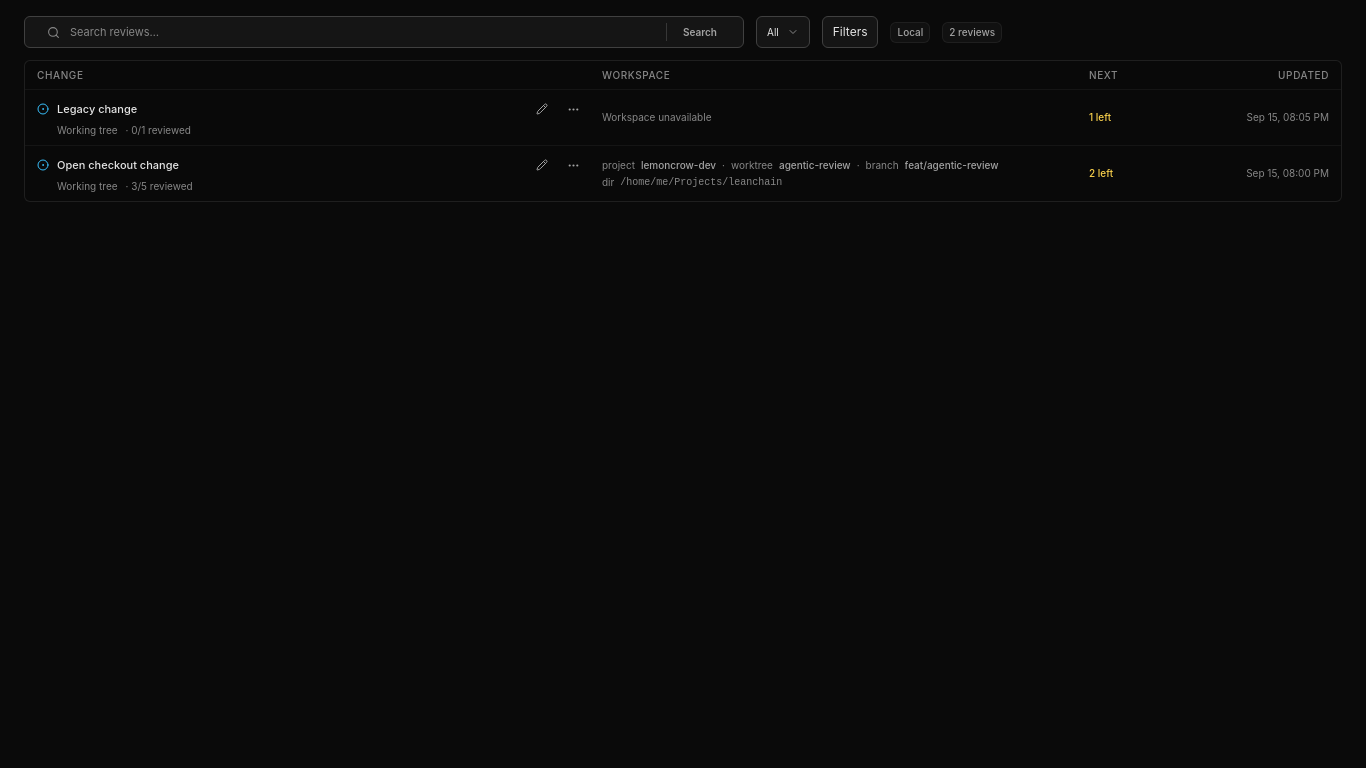
Test case: ReviewDirectory › shows a refused saved filter without losing the list
Click the heading "Filters" at (850, 32), box 822,16 -> 878,48
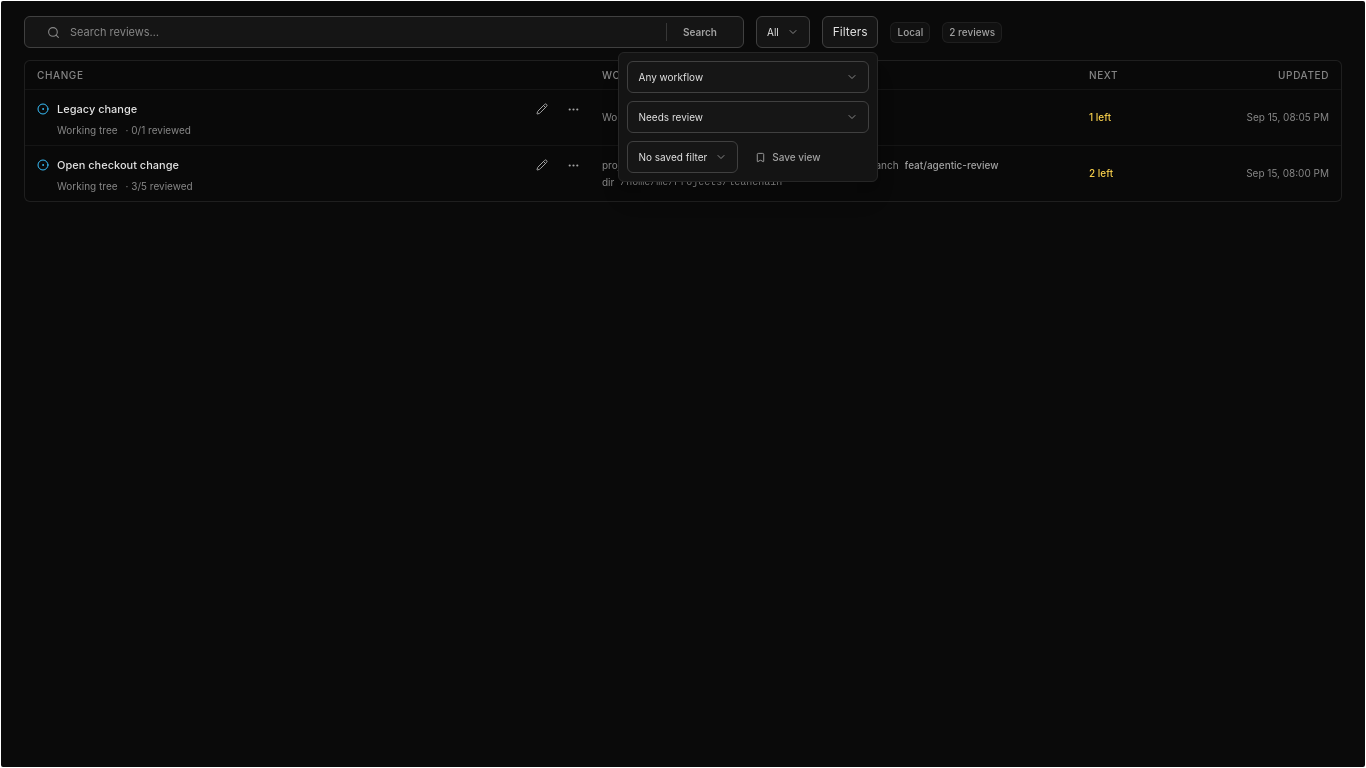
Click the button "Save view" at (788, 157), box 746,143 -> 830,171
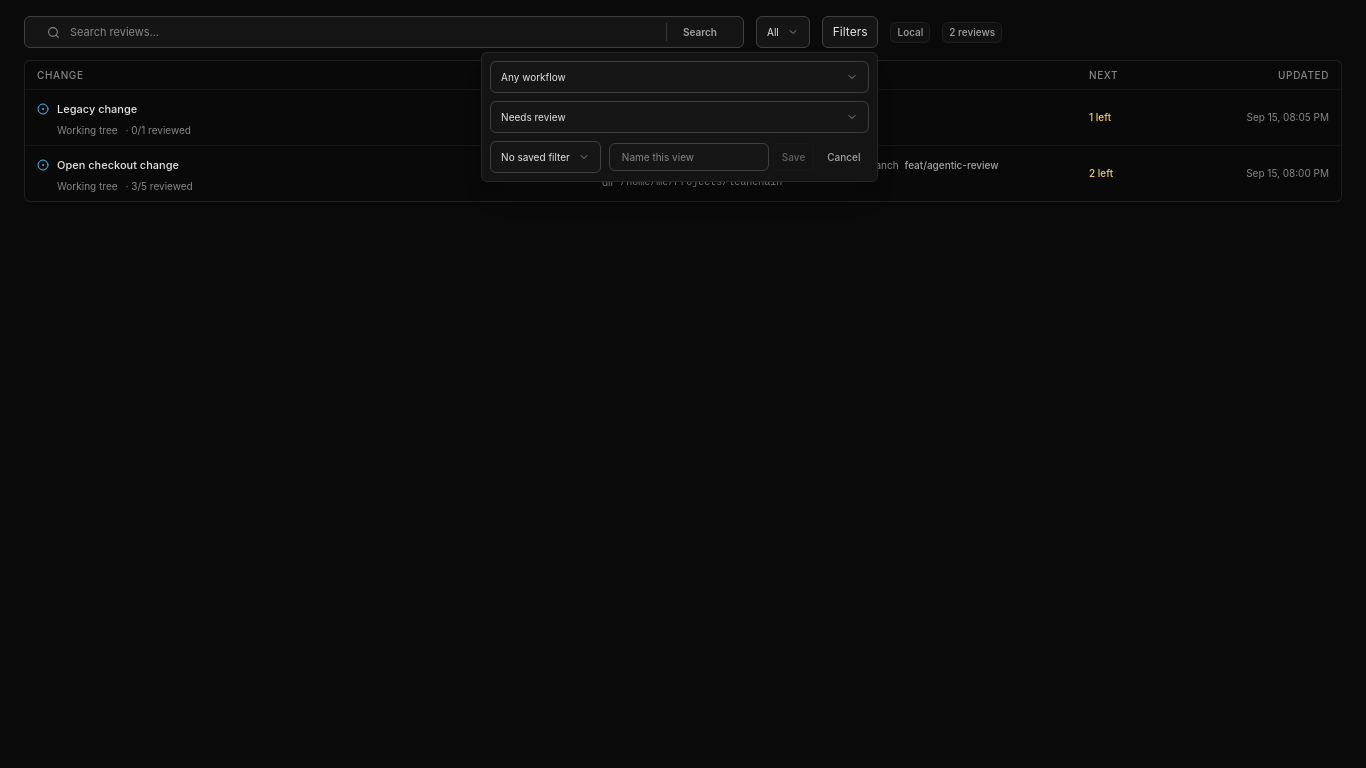
Type "Mine" into the field named "Saved filter name" at (689, 157), box 609,143 -> 769,171
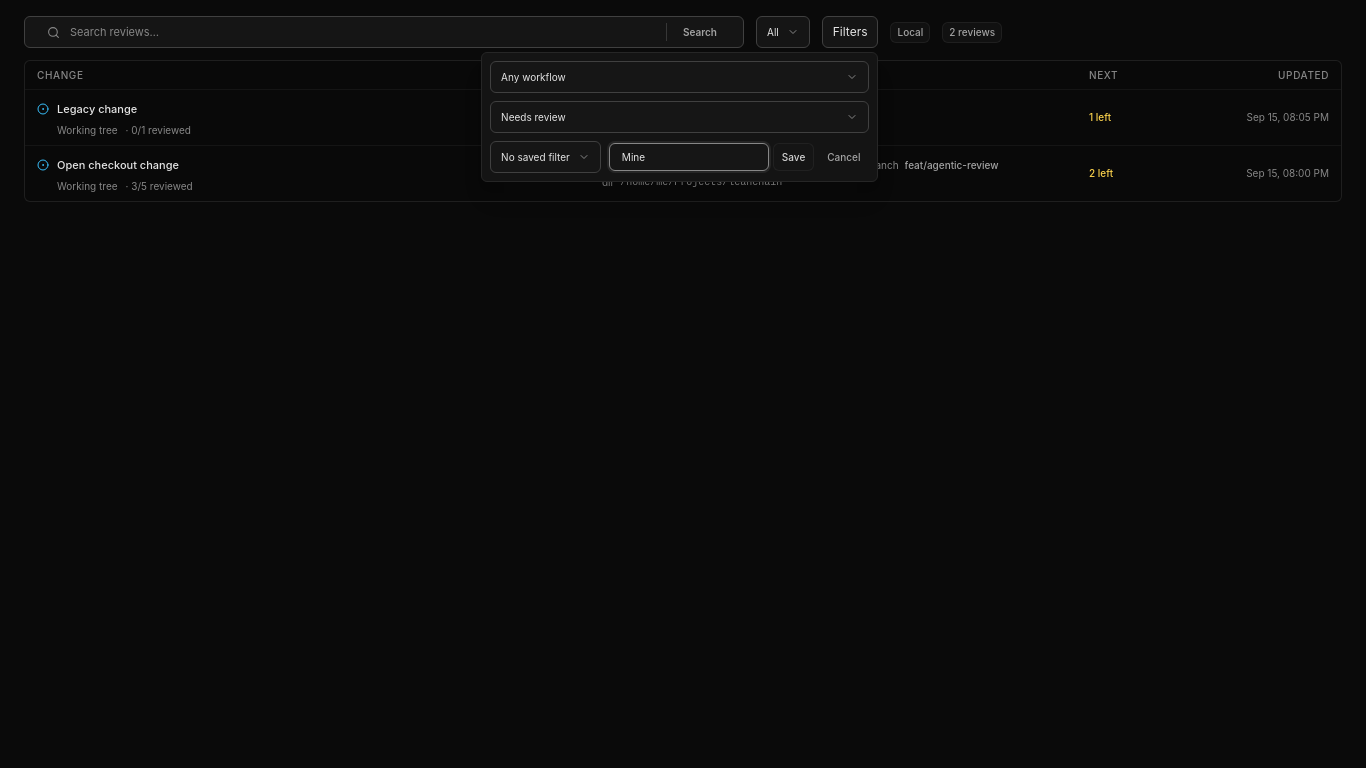
Click the button "Save" at (794, 157), box 773,143 -> 814,171
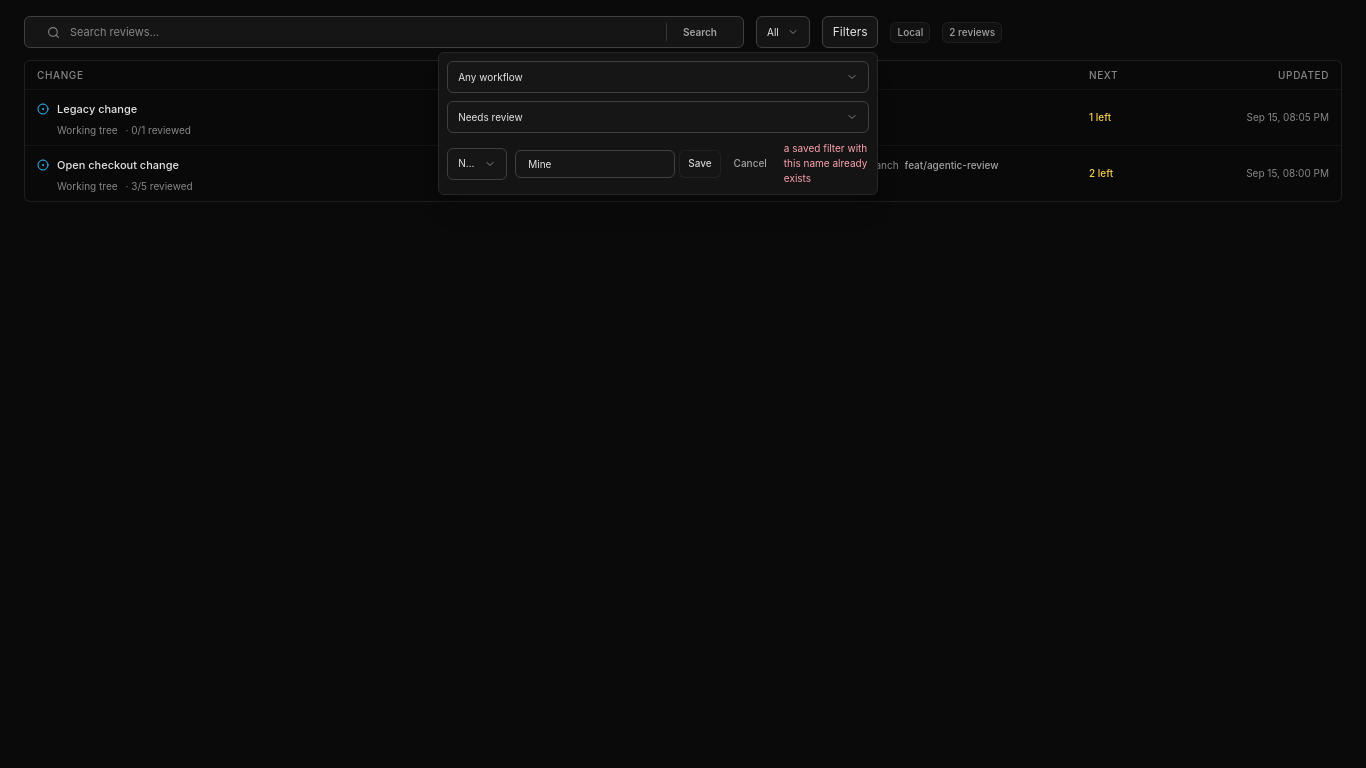
Check: the text "Open checkout change" is shown, box 57,157 -> 179,173
Check: the message reads "a saved filter with this name already exists", box 784,142 -> 867,184
